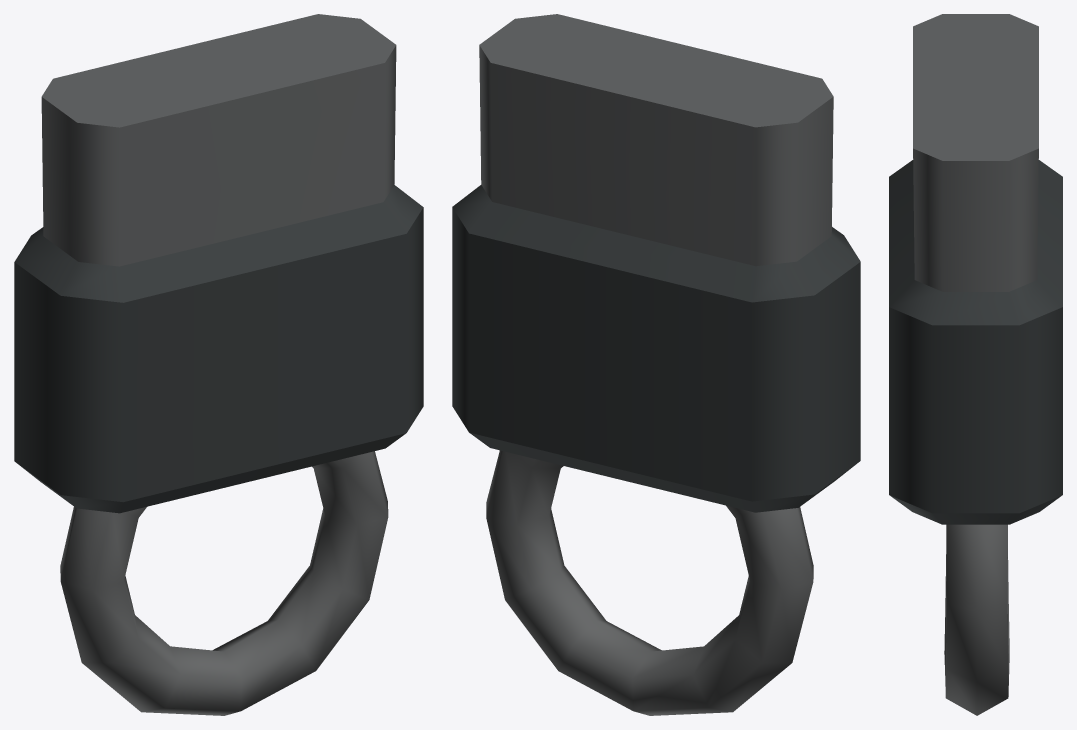
The model's file is Charm_Hook_02.fbx.
The picture shows the model from 3 angles, left to right: view 1: azimuth 30°, elevation 25°; view 2: azimuth 150°, elevation 25°; view 3: azimuth 270°, elevation 25°; orthographic projection. The views are drawn at different scales.
Visible parts, largest first — view 1: Charm_Hook_02; view 2: Charm_Hook_02; view 3: Charm_Hook_02.
Boxes of the visible parts, x1,y1,x2,y2 form: Charm_Hook_02: [14, 14, 423, 715]; Charm_Hook_02: [452, 14, 860, 715]; Charm_Hook_02: [889, 14, 1062, 715].
Bounding box in the file's own units: 1.58 × 2.68 × 0.6922.
